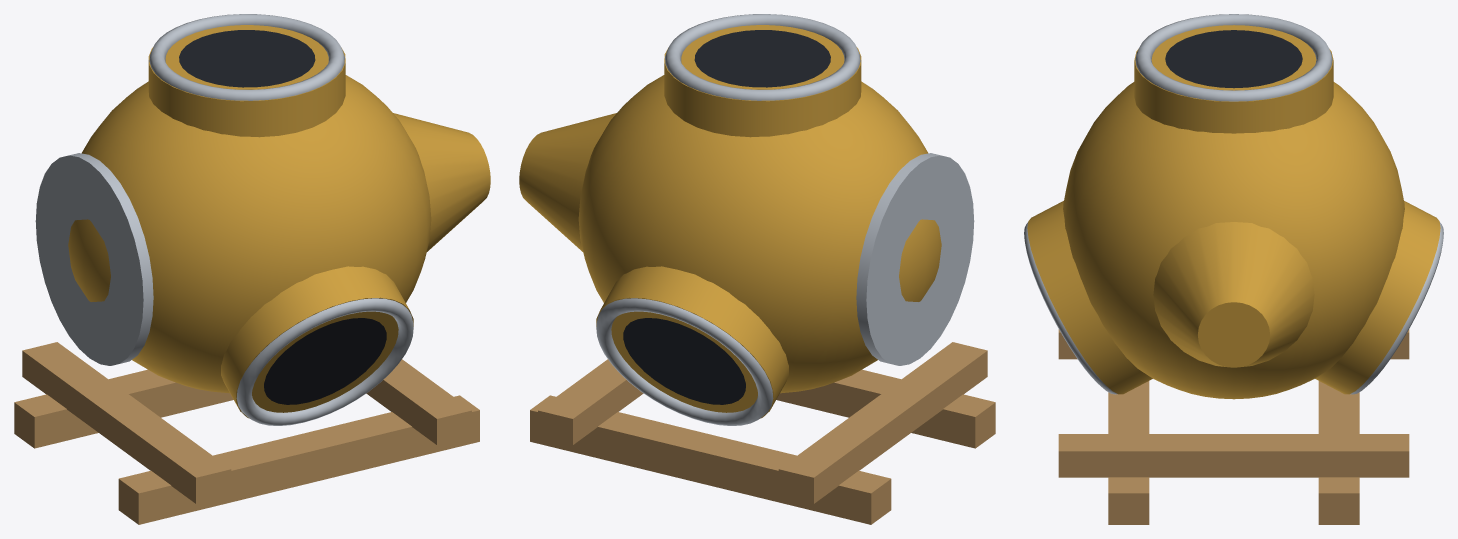
3 renders of one model, left to right at view 1: azimuth 30°, elevation 25°; view 2: azimuth 150°, elevation 25°; view 3: azimuth 270°, elevation 25°, orthographic.
Size of the model in its own units: 3.95 by 3.67 by 3.59.
